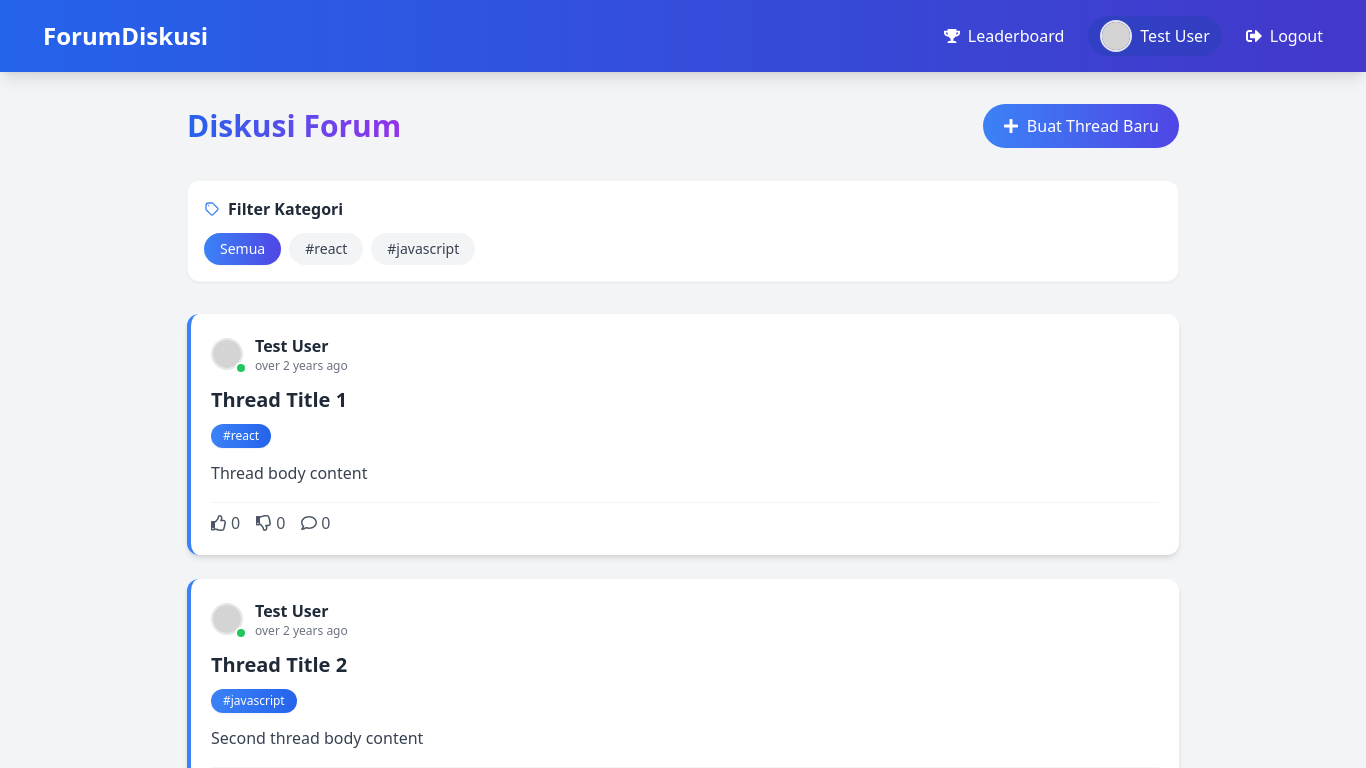
it: Threads Flow › should filter threads by category
expect the element with test id "category-filter" is shown: met, box [187,180,1179,282]
// Klik filter kategori 'react' setelah memastikan elemen ada dan visible
Click the button "#react": (326, 249) [289,233,363,265]
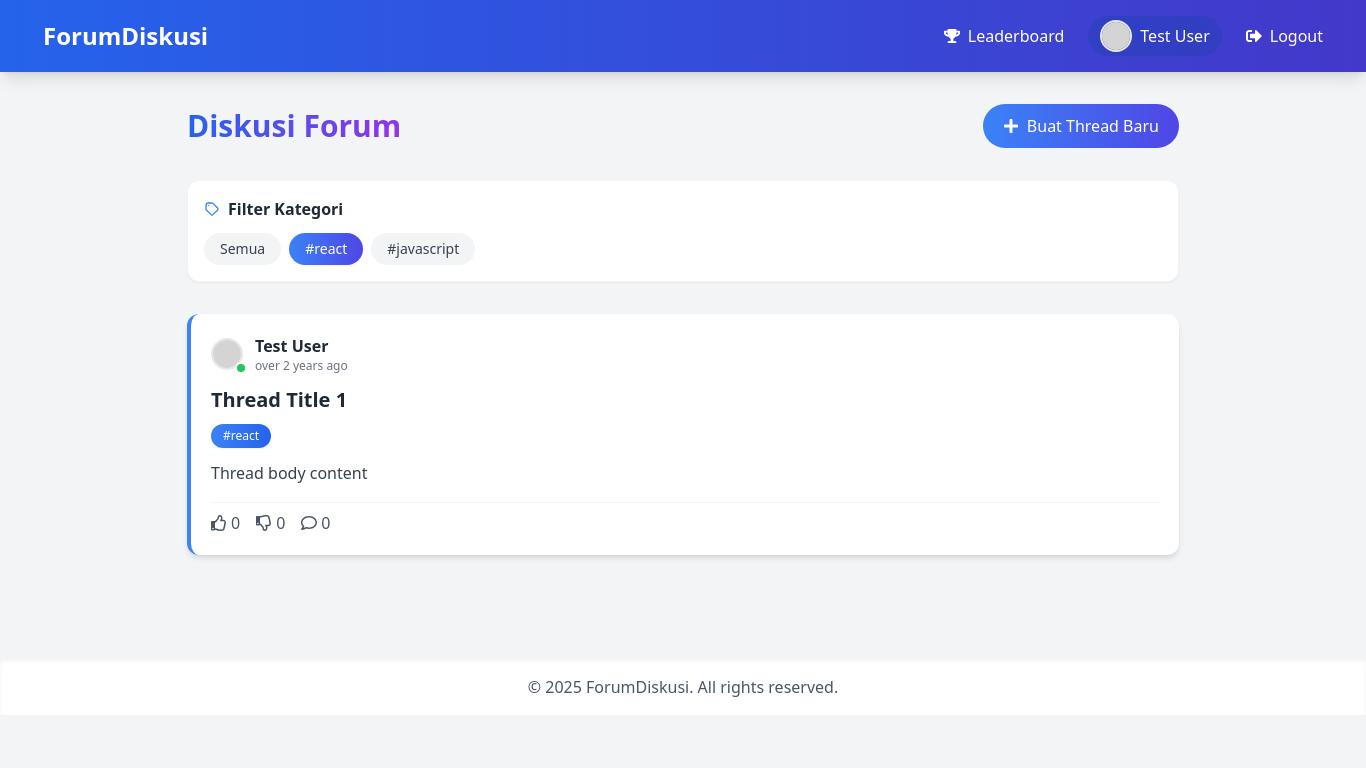
expect the heading with test id "thread-item" reads "Thread Title 1": met, box [211,386,347,413]
expect the number of elements with test id "thread-item" is 1: met, box [187,314,1179,555]
